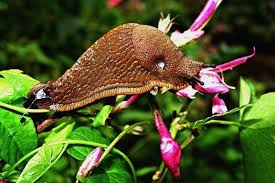slug: (28, 22, 211, 112)
